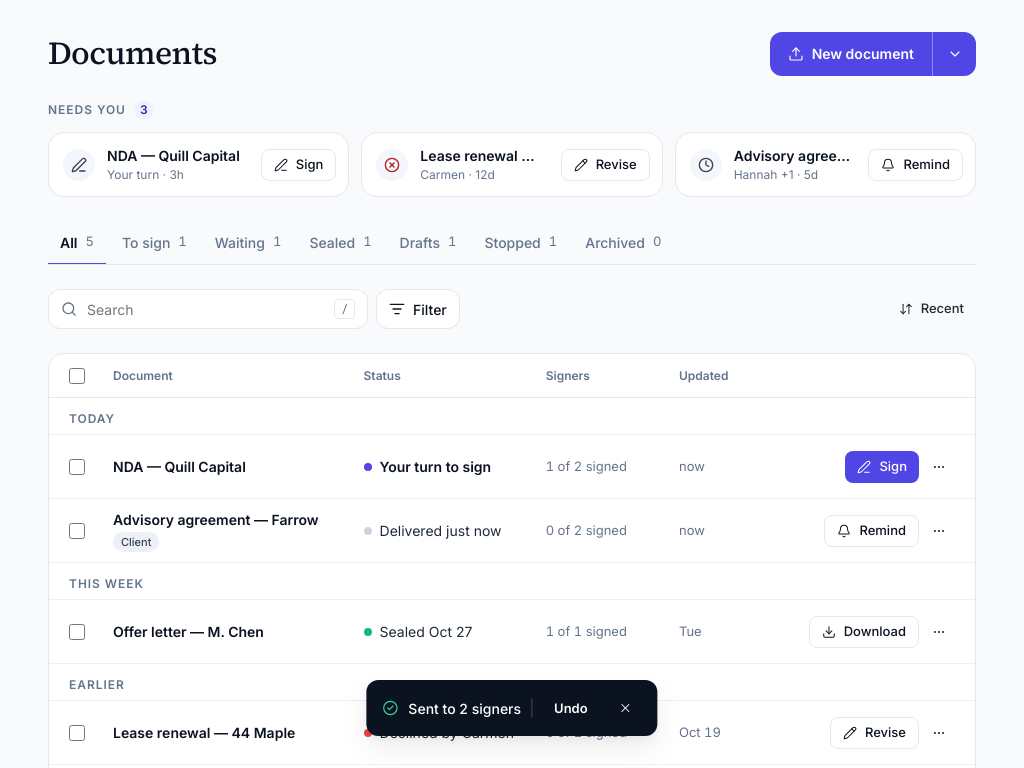
DashboardPage after Send › shows the Sent toast with Undo, and undo returns the document to draft
The image size is (1024, 768).
Check: the text "Sent to 2 signers" is shown, box [408, 698, 521, 718]
Click the button "Undo" at (571, 708), box [542, 692, 600, 724]
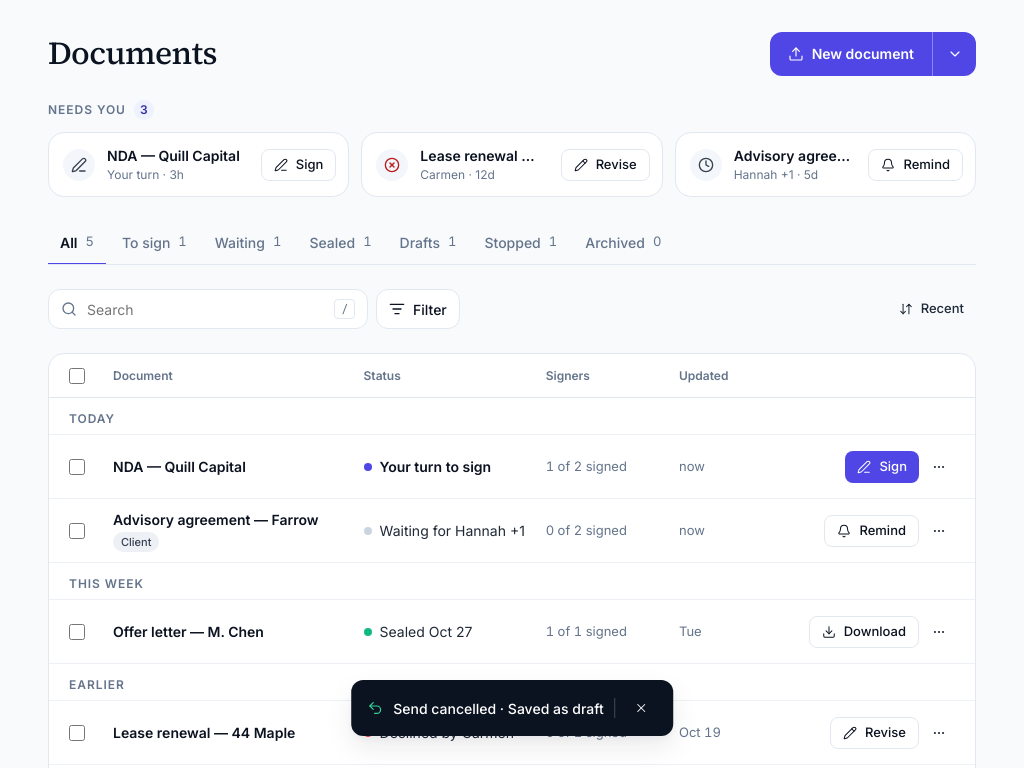
Check: the text "Send cancelled · Saved as draft" is shown, box [393, 698, 604, 718]
